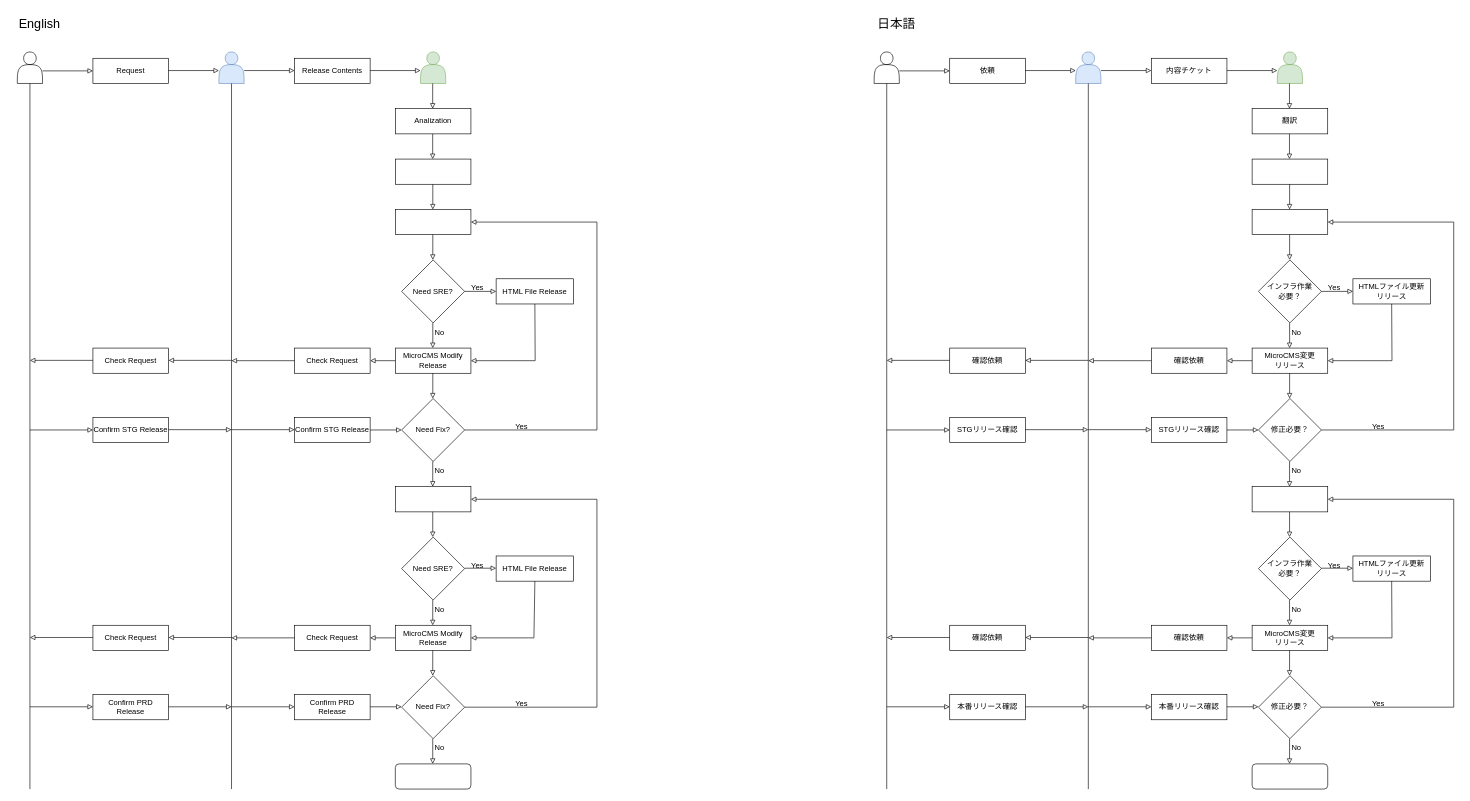
Image size: 1470x801. Some labels were removed from this diagram. The centre of each missing label's shape, as x and y in pixels:
"Coding" belongs at [433,171].
"Done" belongs at [433,776].
"PRD Release" belongs at [433,499].
"STG Release" belongs at [433,222].
"STGリリース" belongs at [1289,222].
"コーディング" belongs at [1289,171].
"本番リリース" belongs at [1289,499].
"終わり" belongs at [1289,776].
